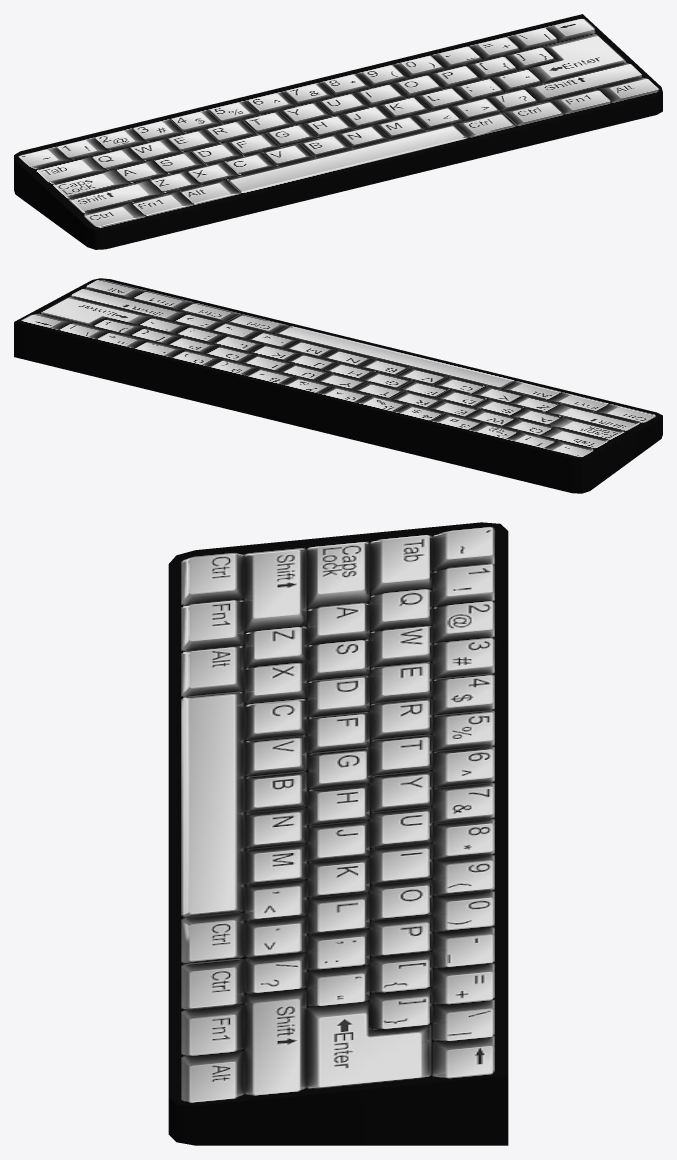
Rendered from teclado.fbx.
3 renders of one model, top to bottom at view 1: azimuth 30°, elevation 25°; view 2: azimuth 150°, elevation 25°; view 3: azimuth 270°, elevation 25°, orthographic. The views are drawn at different scales.
Parts seen in each view (by area): view 1: teclado; view 2: teclado; view 3: teclado.
Boxes of the visible parts, box(x1,y1,x2,y2) form: teclado: box(14, 14, 662, 249); teclado: box(14, 278, 662, 493); teclado: box(168, 522, 508, 1145).
Size of the model in its own units: 136 by 8 by 35.13.
